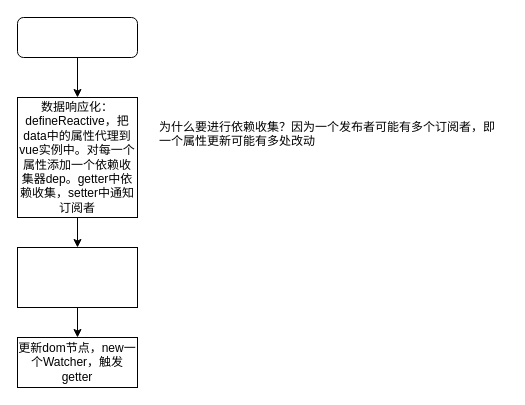
Some shapes in this 525 by 405 pixel diagram are drawn without their labels. The shapes that lost their labels are listed below. From the top down, each one's centre as x and y in pixels, then its label:
the point at 77,37: 开始
the point at 77,277: 第一次编译： 根据节点类型，属性中的指令名称执行对应的函数
